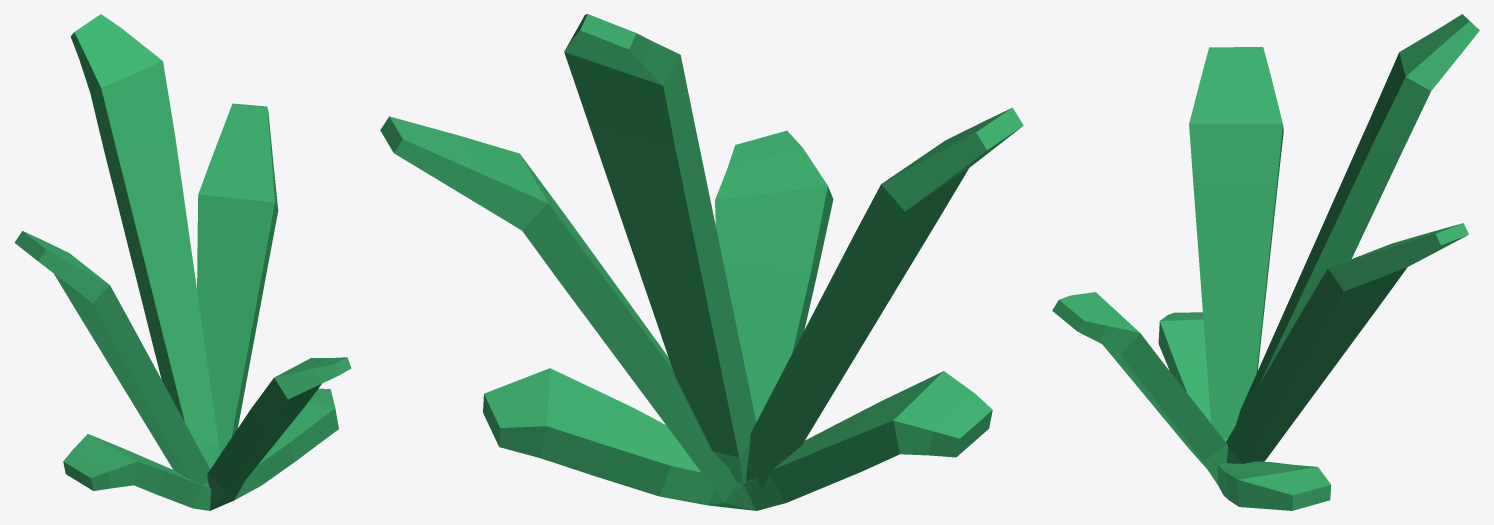
File: plant_002_grp.fbx
3 renders of one model, left to right at view 1: azimuth 30°, elevation 25°; view 2: azimuth 150°, elevation 25°; view 3: azimuth 270°, elevation 25°, orthographic. The views are drawn at different scales.
Parts seen in each view (by area): view 1: plant_002_grp; view 2: plant_002_grp; view 3: plant_002_grp.
Part boxes in pixels (left/top/right/bottom): plant_002_grp: left=14, top=14, right=351, bottom=510; plant_002_grp: left=380, top=14, right=1023, bottom=510; plant_002_grp: left=1052, top=14, right=1479, bottom=510.
Bounding box in the file's own units: 150 × 175 × 150.
